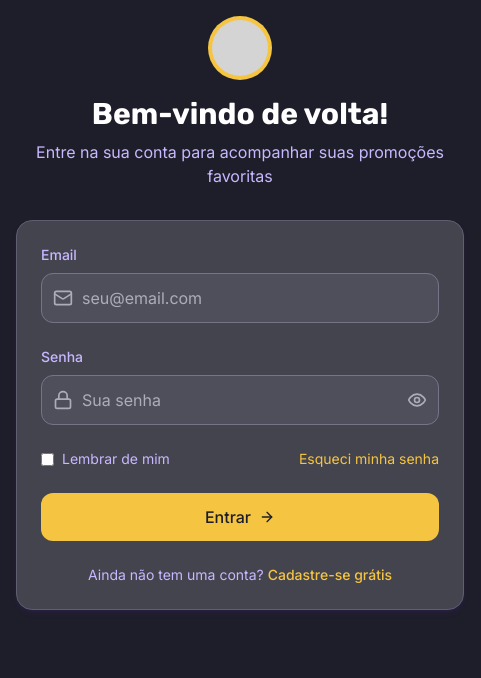
Test: Login Page › deve mostrar erros de validação para campos obrigatórios
The width and height of the screenshot is (481, 678).
Click the button "Entrar": (240, 517) [41, 493, 439, 541]
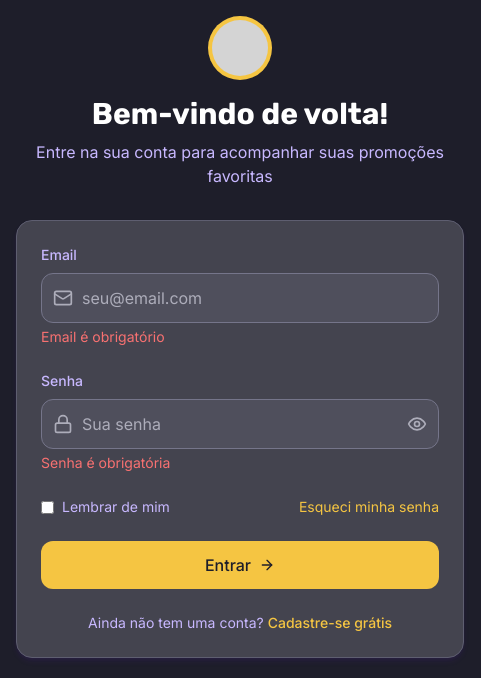
Check: the text "Email é obrigatório" is shown, box [41, 328, 165, 345]
Check: the text "Senha é obrigatória" is shown, box [41, 454, 170, 471]
